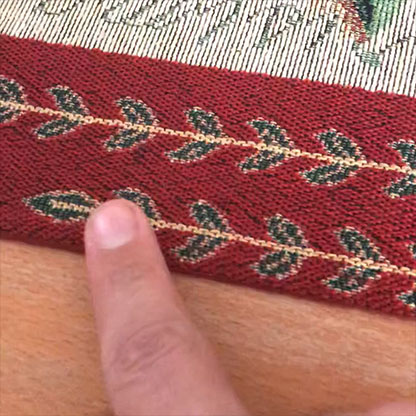fingertip: (66, 183, 181, 270)
